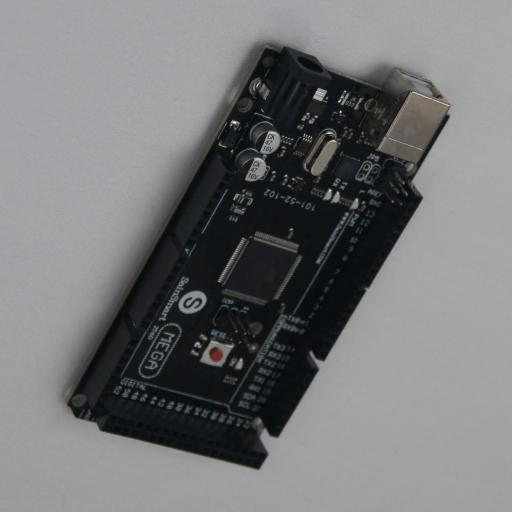Arduino Mega 2560 -Black-: (66, 43, 450, 470)
